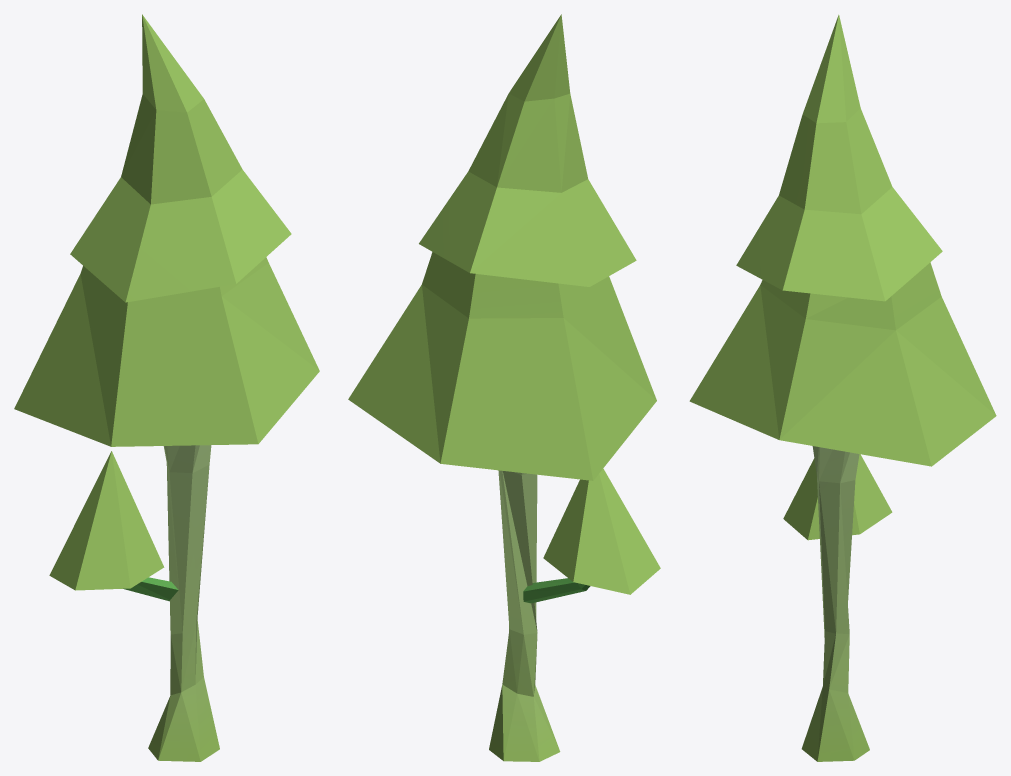
File: tree_g.gltf
3 views of the same model, side by side, from view 1: azimuth 30°, elevation 25°; view 2: azimuth 150°, elevation 25°; view 3: azimuth 270°, elevation 25° (orthographic). The views are drawn at different scales.
Parts seen in each view (by area): view 1: tree_g001; view 2: tree_g001; view 3: tree_g001.
Part boxes in pixels (box(x1,y1,x2,y2)): tree_g001: box(14, 14, 319, 761); tree_g001: box(348, 14, 660, 761); tree_g001: box(689, 14, 996, 761).
Size of the model in its own units: 1.07 by 3.06 by 1.19.
1 material, 1 textured.
